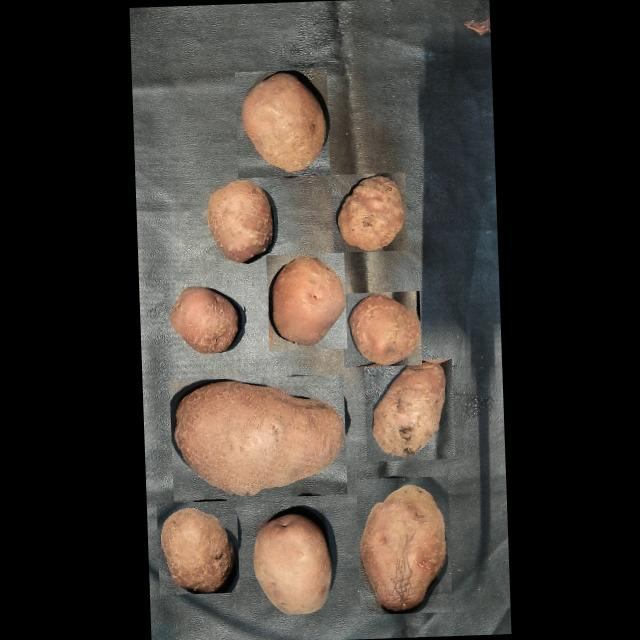Diseased-fungal potato: (169, 373, 347, 499), (356, 474, 452, 614), (246, 507, 339, 628), (234, 67, 330, 176), (364, 358, 454, 460), (266, 251, 347, 350), (156, 499, 240, 594), (198, 176, 278, 266), (162, 278, 245, 359), (330, 170, 408, 252), (341, 289, 422, 366)
